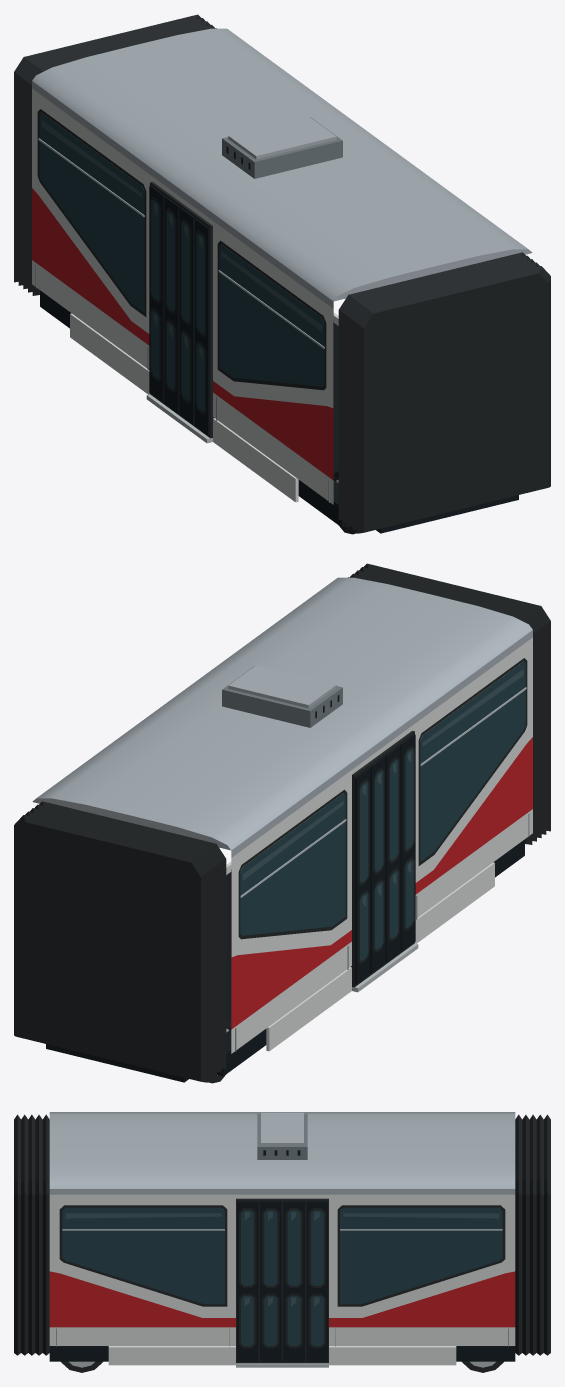
The model's file is kt8d5-b-viewer.glb.
3 renders of one model, top to bottom at view 1: azimuth 30°, elevation 25°; view 2: azimuth 150°, elevation 25°; view 3: azimuth 270°, elevation 25°, orthographic. The views are drawn at different scales.
Parts seen in each view (by area): view 1: kt8d5-b, kt8d5-b-door--1-0.000-1, kt8d5-b-door--1-0.000-0, kt8d5-b-door--1-0.000-2, kt8d5-b-door--1-0.000-3; view 2: kt8d5-b, kt8d5-b-door--1-0.000-2, kt8d5-b-door--1-0.000-0, kt8d5-b-door--1-0.000-1, kt8d5-b-door--1-0.000-3; view 3: kt8d5-b, kt8d5-b-door-1-0.000-1, kt8d5-b-door-1-0.000-2, kt8d5-b-door-1-0.000-0, kt8d5-b-door-1-0.000-3.
Part boxes in pixels (<box>): kt8d5-b: <box>14,14,550,534</box>; kt8d5-b-door--1-0.000-1: <box>164,196,179,413</box>; kt8d5-b-door--1-0.000-0: <box>149,185,164,402</box>; kt8d5-b-door--1-0.000-2: <box>179,207,194,424</box>; kt8d5-b-door--1-0.000-3: <box>194,218,209,435</box>; kt8d5-b: <box>14,563,550,1083</box>; kt8d5-b-door--1-0.000-2: <box>385,745,400,962</box>; kt8d5-b-door--1-0.000-0: <box>355,767,370,984</box>; kt8d5-b-door--1-0.000-1: <box>370,756,385,973</box>; kt8d5-b-door--1-0.000-3: <box>400,734,415,951</box>; kt8d5-b: <box>14,1112,550,1372</box>; kt8d5-b-door-1-0.000-1: <box>283,1201,304,1361</box>; kt8d5-b-door-1-0.000-2: <box>260,1201,281,1361</box>; kt8d5-b-door-1-0.000-0: <box>306,1201,327,1361</box>; kt8d5-b-door-1-0.000-3: <box>237,1201,258,1361</box>.
Size of the model in its own units: 2.63 by 3.38 by 7.5.
